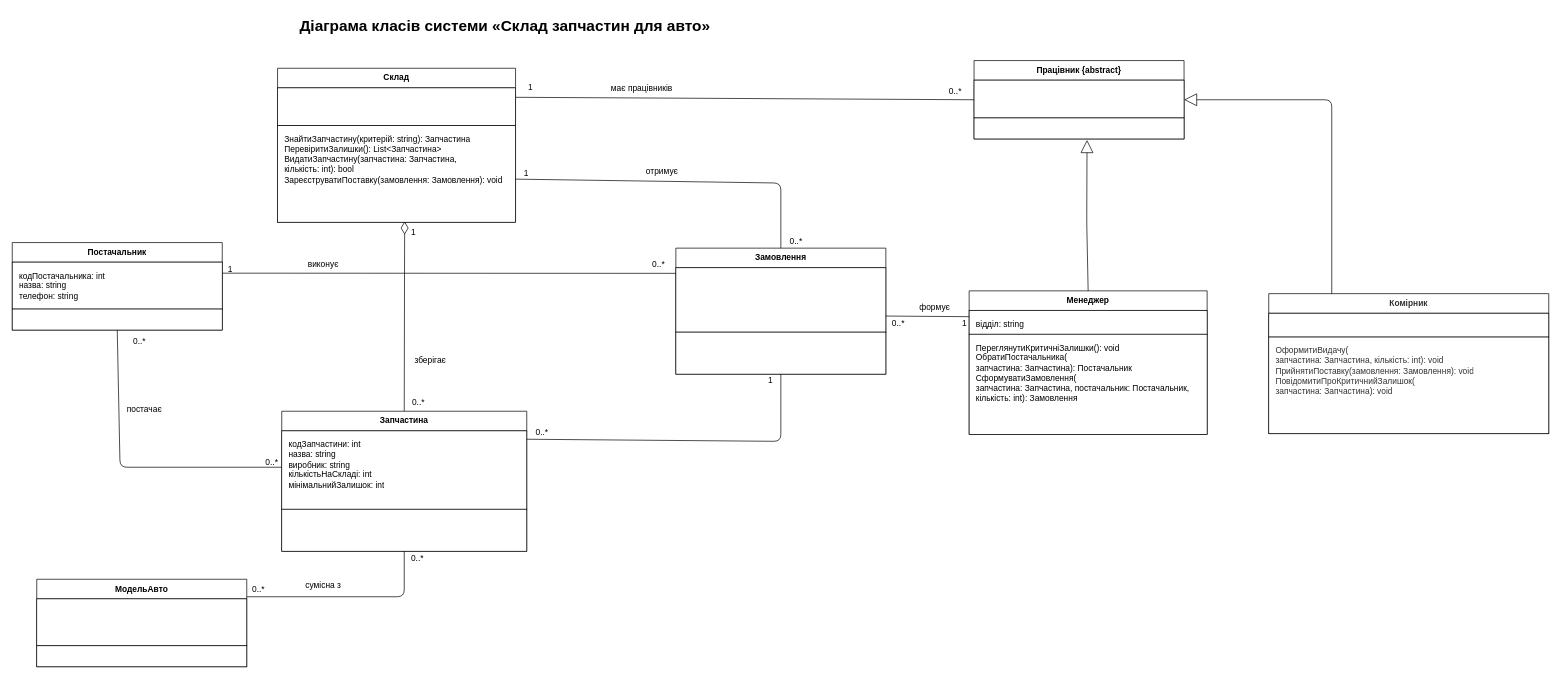
Image size: 1561x679. Some labels were removed from this diagram. The shapes that lost their labels are listed below. From the top down, each one's centre as x and y in pixels, then its label:
the point at 396,106: назва: string адреса: string
the point at 1078,98: табельнийНомер: int ПІБ: string
the point at 780,299: номерЗамовлення: int дата: DateTime кількість: int статус: string
the point at 1408,325: зонаВідповідальності: string
the point at 780,352: ПозначитиЯкОтримане(): void
the point at 404,530: ПеревіритиСумісність( модель: МодельАвто): bool
the point at 141,622: марка: string модель: string рікВипуску: int
